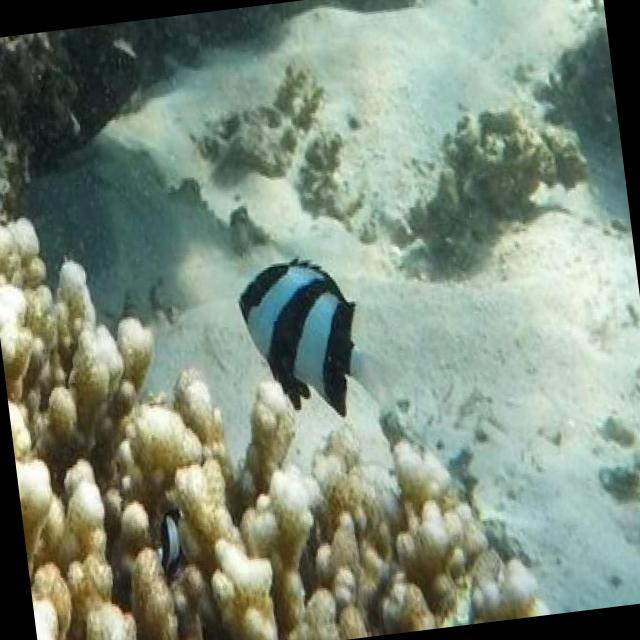Three_striped DasmselFish: (228, 251, 374, 438)
